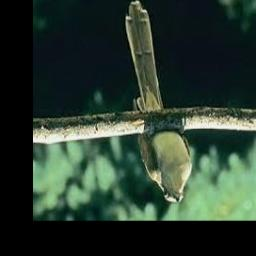Cuckoo: (125, 1, 193, 202)
